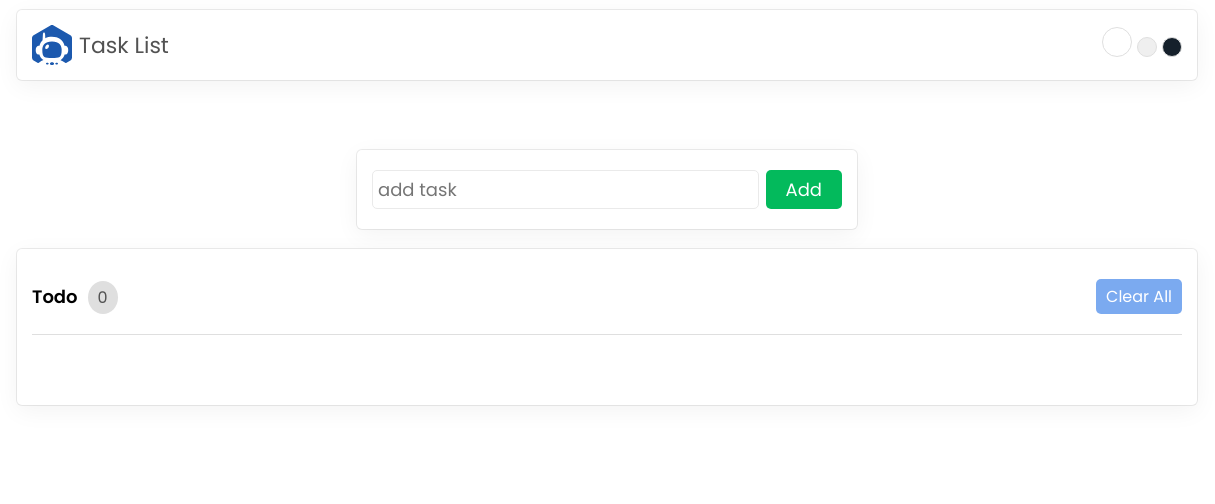
Test case: App component › will add tasks
Type "test task 1" into the field with test id "input" at (565, 190), box [372, 170, 758, 209]
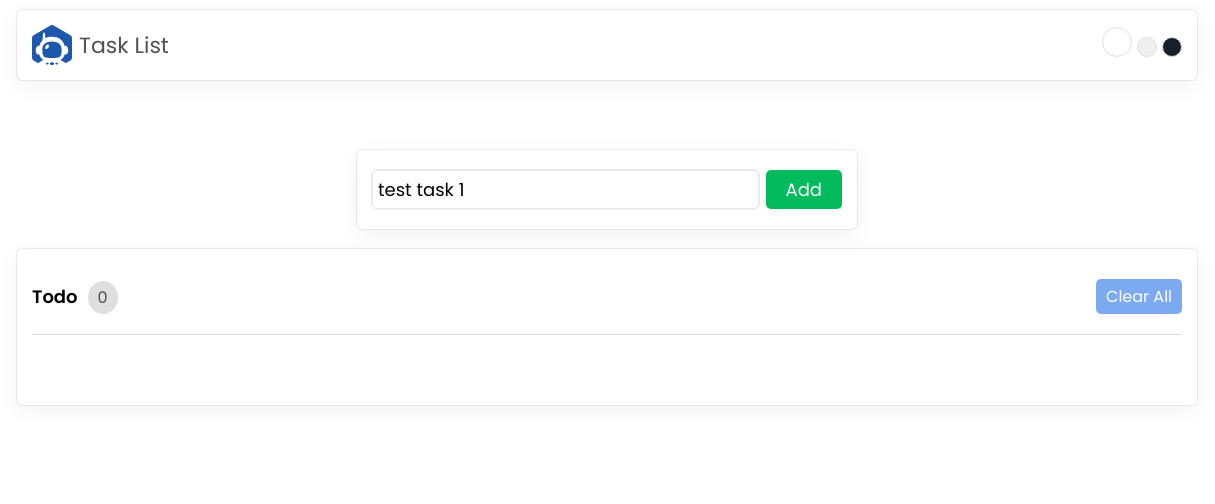
Click the button "Add" at (804, 190), box [766, 170, 842, 209]
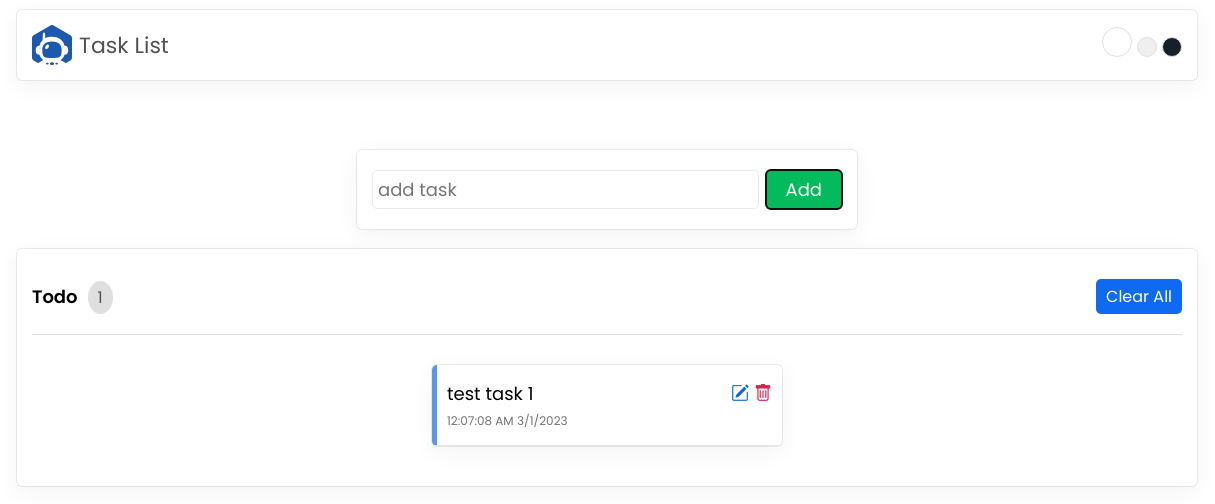
Type "test task 2" into the field with test id "input" at (565, 190), box [372, 170, 758, 209]
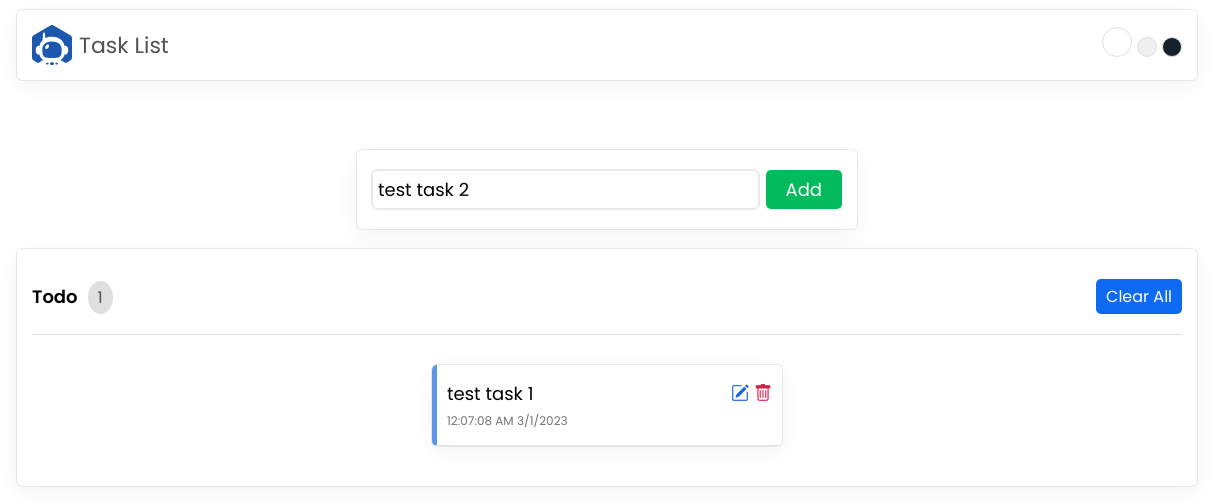
Click the button "Add" at (804, 190), box [766, 170, 842, 209]
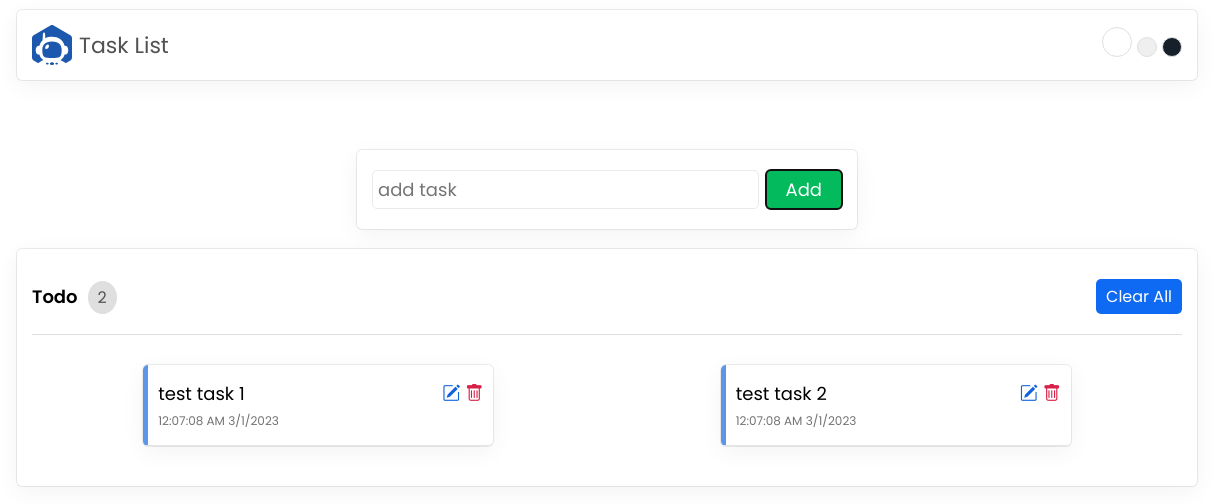
Expected: the text with test id "task-name" reads "test task 1", [158, 381, 245, 406]
Expected: the number of elements with test id "task-name" is 2, [158, 381, 245, 406]; [736, 381, 827, 406]
Expected: the text with test id "task-name" reads "test task 2", [736, 381, 827, 406]
